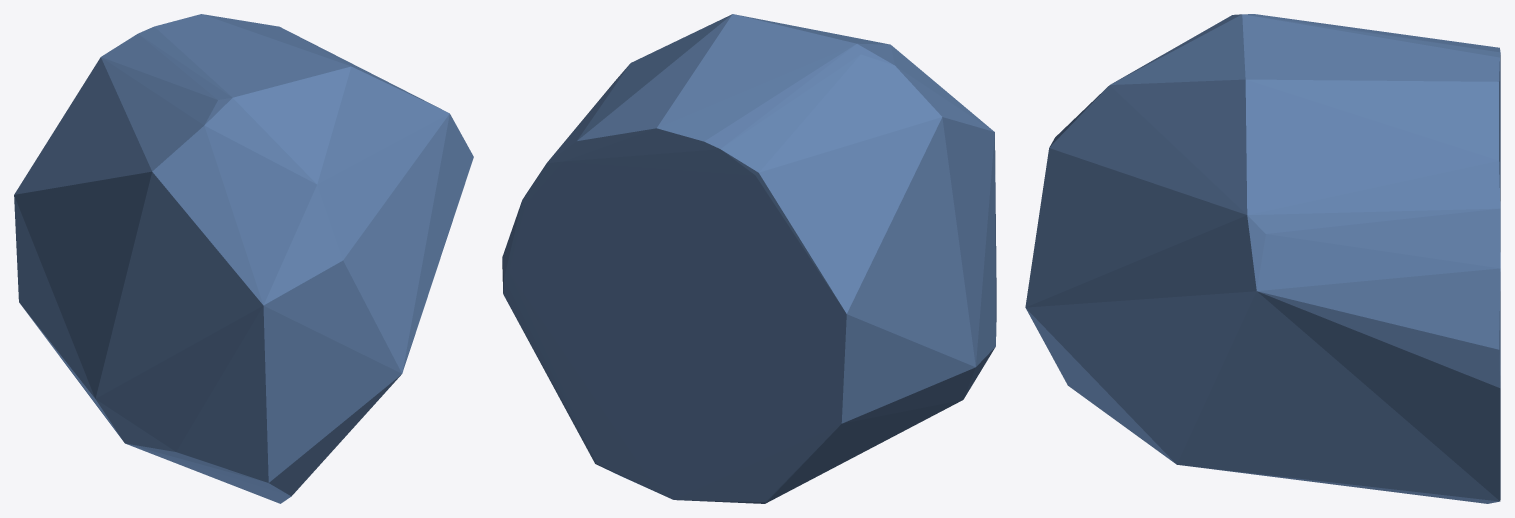
Rendered from food_prepared_cupcake_e01.glb.
3 renders of one model, left to right at view 1: azimuth 30°, elevation 25°; view 2: azimuth 150°, elevation 25°; view 3: azimuth 270°, elevation 25°, orthographic. The views are drawn at different scales.
Parts seen in each view (by area): view 1: geometry_0; view 2: geometry_0; view 3: geometry_0.
Part boxes in pixels (<box>): geometry_0: <box>14,14,473,503</box>; geometry_0: <box>502,14,996,503</box>; geometry_0: <box>1025,14,1500,503</box>.
Bounding box in the file's own units: 0.4427 × 0.4545 × 0.4309.
